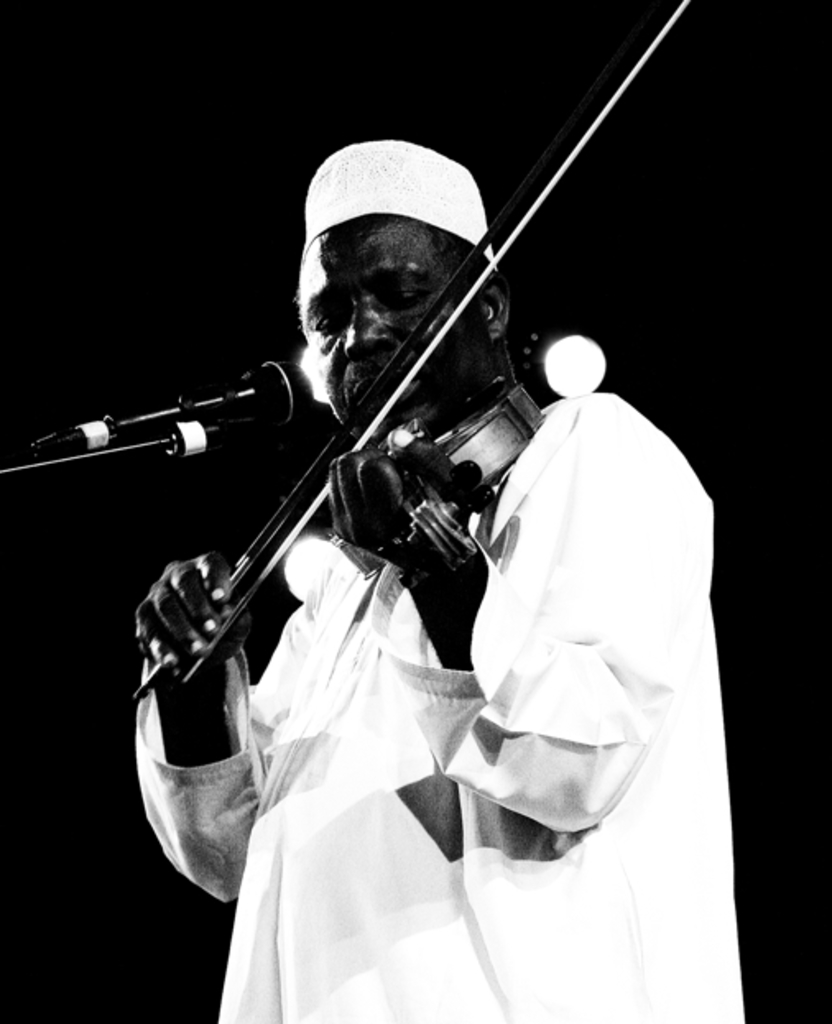Person: (130, 137, 747, 1024)
